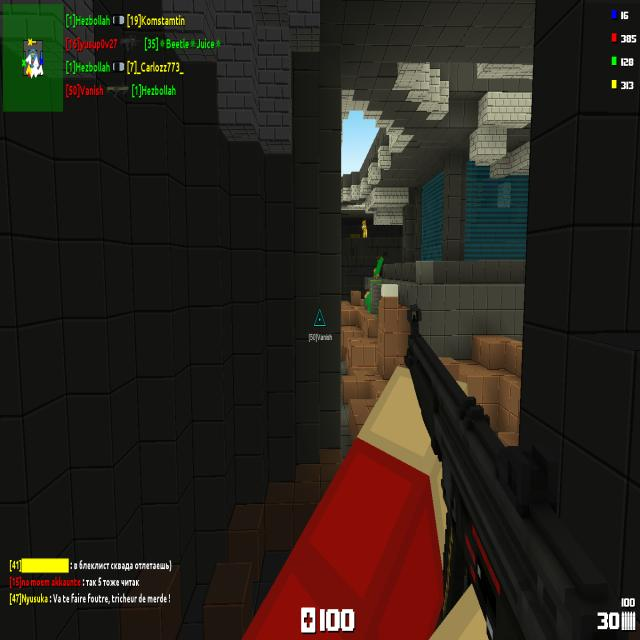enemy: (362, 220, 368, 238)
